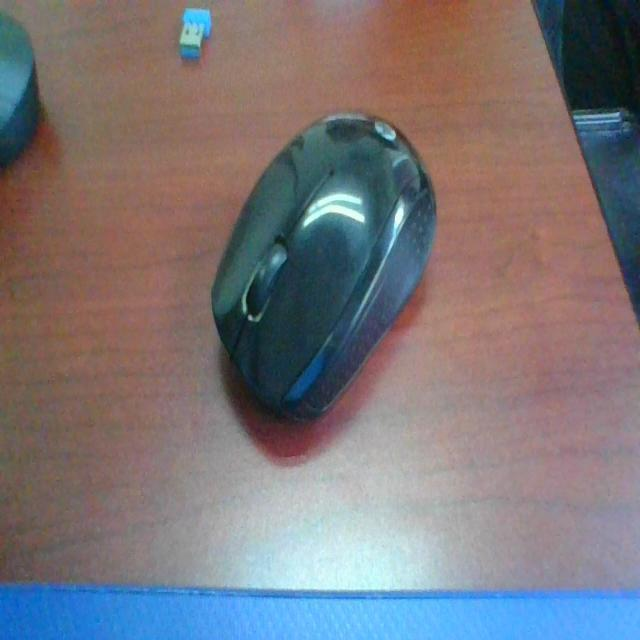Mouse: (210, 101, 464, 422)
